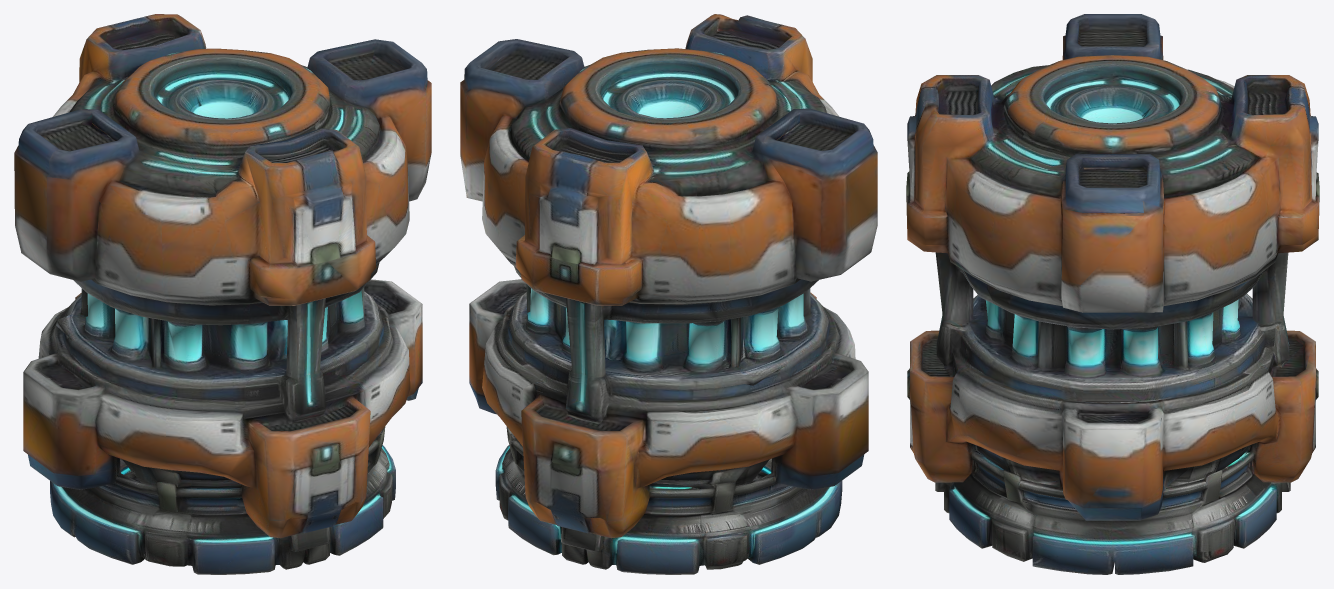
File: webe_post01.glb
The picture shows the model from 3 angles, left to right: view 1: azimuth 30°, elevation 25°; view 2: azimuth 150°, elevation 25°; view 3: azimuth 270°, elevation 25°; orthographic projection.
Parts seen in each view (by area): view 1: Mesh_0.022; view 2: Mesh_0.022; view 3: Mesh_0.022.
Boxes of the visible parts, x1,y1,x2,y2 form: Mesh_0.022: (14, 14, 431, 574); Mesh_0.022: (460, 14, 877, 574); Mesh_0.022: (906, 14, 1319, 574).
Size of the model in its own units: 1.89 by 1.96 by 1.78.
Materials: 1 (1 with a texture image).
